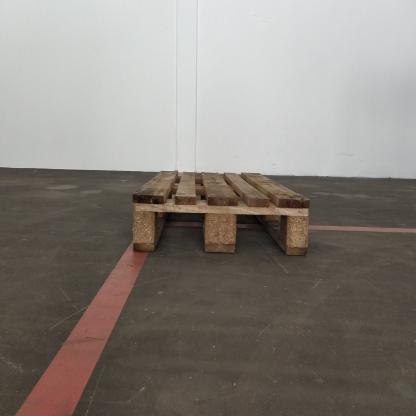BoxFace: (128, 169, 317, 263)
